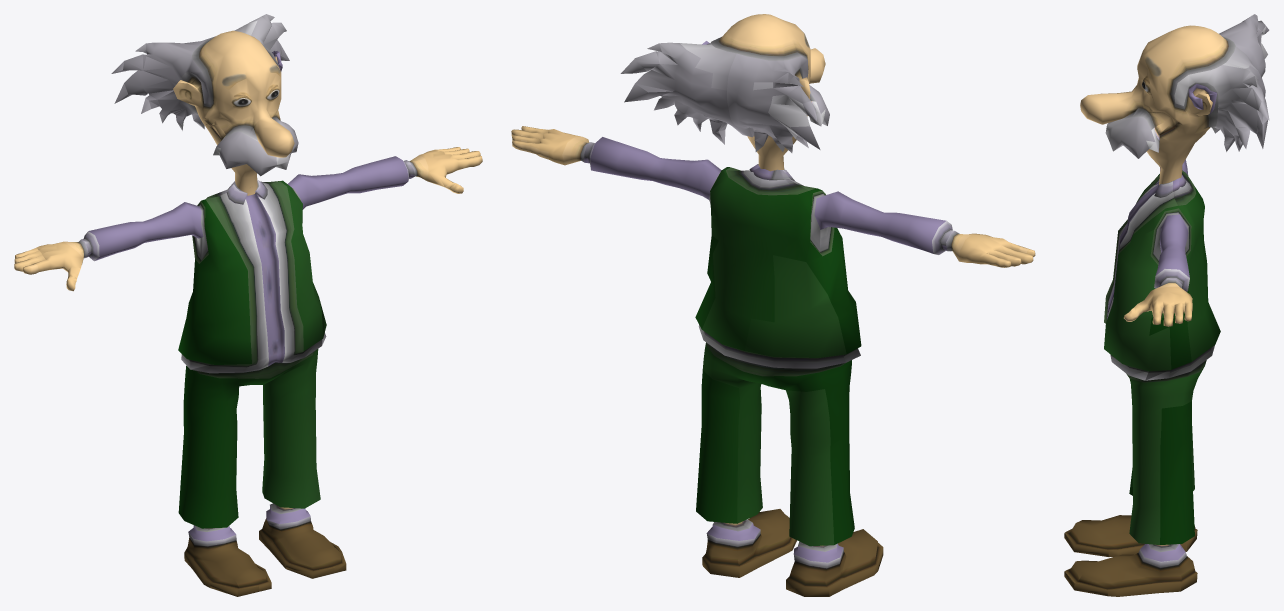
Rendered from Grandpa2.fbx.
The picture shows the model from 3 angles, left to right: view 1: azimuth 30°, elevation 25°; view 2: azimuth 150°, elevation 25°; view 3: azimuth 270°, elevation 25°; orthographic projection. The views are drawn at different scales.
Visible parts, largest first — view 1: grandpa:Mesh; view 2: grandpa:Mesh; view 3: grandpa:Mesh.
Boxes of the visible parts, x1=… form: grandpa:Mesh: x1=14, y1=14, x2=482, y2=596; grandpa:Mesh: x1=511, y1=14, x2=1035, y2=596; grandpa:Mesh: x1=1064, y1=14, x2=1269, y2=596.
Bounding box in the file's own units: 13.94 × 14.47 × 5.05.
Materials: 1 (1 with a texture image).
